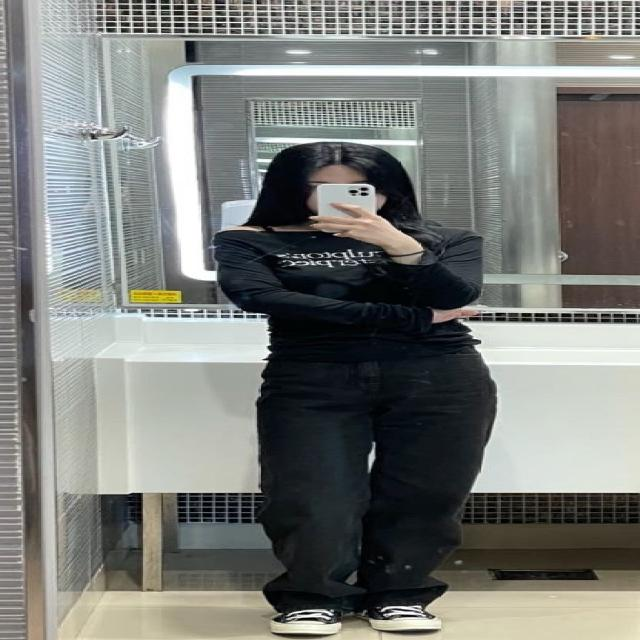denimpants: (250, 320, 494, 608)
longsleeve: (216, 222, 486, 359)
